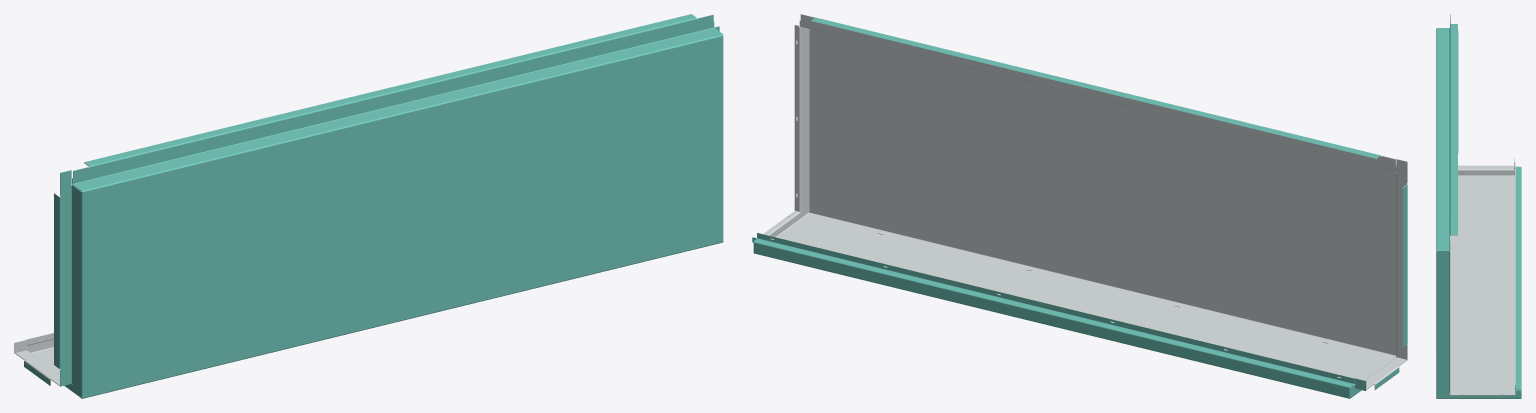
Rendered from panel.glb.
The picture shows the model from 3 angles, left to right: view 1: azimuth 30°, elevation 25°; view 2: azimuth 150°, elevation 25°; view 3: azimuth 270°, elevation 25°; orthographic projection. The views are drawn at different scales.
Visible parts, largest first — view 1: face_0_paint, face_3_paint, face_2_paint, face_5_paint, face_10_paint, face_8_paint, bend_1_paint, bend_8_paint, metal_metal, bend_7_paint, face_11_paint, bend_0_paint (+1 smaller); view 2: metal_metal, face_4_paint, face_7_paint, face_5_paint, face_6_paint, bend_9_paint, bend_12_paint, bend_0_metal, face_11_paint, bend_7_metal, bend_4_paint; view 3: metal_metal, face_2_paint, face_9_paint, face_5_paint, face_6_paint, bend_1_paint, bend_9_paint, bend_3_paint, bend_12_paint, bend_7_paint, bend_8_paint, bend_14_paint (+2 smaller).
Part boxes in pixels (left/top/right/bottom): face_0_paint: left=83, top=36, right=722, bottom=397; face_3_paint: left=72, top=15, right=719, bottom=183; face_2_paint: left=73, top=26, right=722, bottom=190; face_5_paint: left=60, top=14, right=695, bottom=172; face_10_paint: left=60, top=170, right=72, bottom=386; face_8_paint: left=65, top=178, right=80, bottom=397; bend_1_paint: left=82, top=34, right=722, bottom=192; bend_8_paint: left=89, top=17, right=697, bottom=167; metal_metal: left=14, top=14, right=723, bottom=398; bend_7_paint: left=72, top=27, right=714, bottom=184; face_11_paint: left=14, top=193, right=58, bottom=385; bend_0_paint: left=82, top=242, right=722, bottom=398; metal_metal: left=757, top=14, right=1407, bottom=398; face_4_paint: left=754, top=243, right=1348, bottom=397; face_7_paint: left=752, top=233, right=1354, bottom=383; face_5_paint: left=811, top=17, right=1406, bottom=161; face_6_paint: left=753, top=237, right=1353, bottom=386; bend_9_paint: left=753, top=241, right=1349, bottom=388; bend_12_paint: left=757, top=238, right=1353, bottom=384; bend_0_metal: left=809, top=212, right=1396, bottom=356; face_11_paint: left=1366, top=185, right=1407, bottom=390; bend_7_metal: left=800, top=26, right=1396, bottom=171; bend_4_paint: left=754, top=253, right=1348, bottom=398; metal_metal: left=1436, top=18, right=1520, bottom=395; face_2_paint: left=1437, top=28, right=1450, bottom=252; face_9_paint: left=1437, top=247, right=1520, bottom=398; face_5_paint: left=1450, top=14, right=1457, bottom=235; face_6_paint: left=1515, top=166, right=1520, bottom=391; bend_1_paint: left=1436, top=28, right=1437, bottom=250; bend_9_paint: left=1520, top=167, right=1521, bottom=389; bend_3_paint: left=1436, top=251, right=1437, bottom=398; bend_12_paint: left=1515, top=167, right=1515, bottom=389; bend_7_paint: left=1449, top=28, right=1449, bottom=250; bend_8_paint: left=1450, top=24, right=1450, bottom=235; bend_14_paint: left=1449, top=252, right=1449, bottom=393.
Size of the model in its own units: 2.03 by 0.654 by 0.32.
